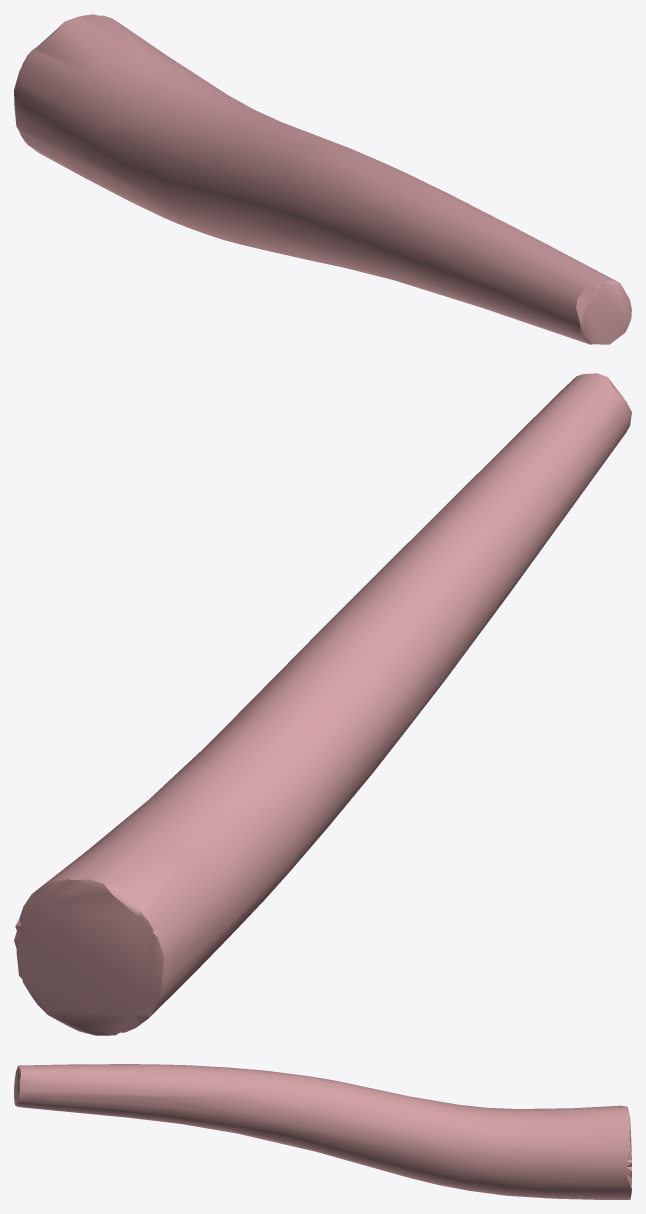
File: fma68211_fj2522.glb
3 views of the same model, one above another, from view 1: azimuth 30°, elevation 25°; view 2: azimuth 150°, elevation 25°; view 3: azimuth 270°, elevation 25° (orthographic). The views are drawn at different scales.
Visible parts, largest first — view 1: FMA68211_FJ2522; view 2: FMA68211_FJ2522; view 3: FMA68211_FJ2522.
Boxes of the visible parts, x1,y1,x2,y2 form: FMA68211_FJ2522: (14,14,631,344); FMA68211_FJ2522: (14,373,631,1035); FMA68211_FJ2522: (14,1064,631,1199).
Size of the model in its own units: 0.00457 by 0.00726 by 0.0292.
